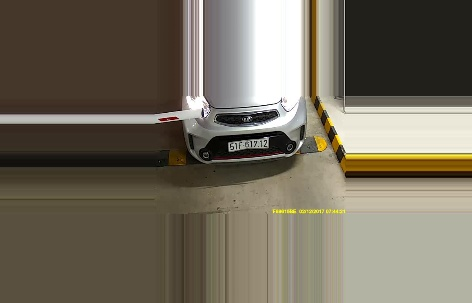plate: (223, 136, 270, 153)
